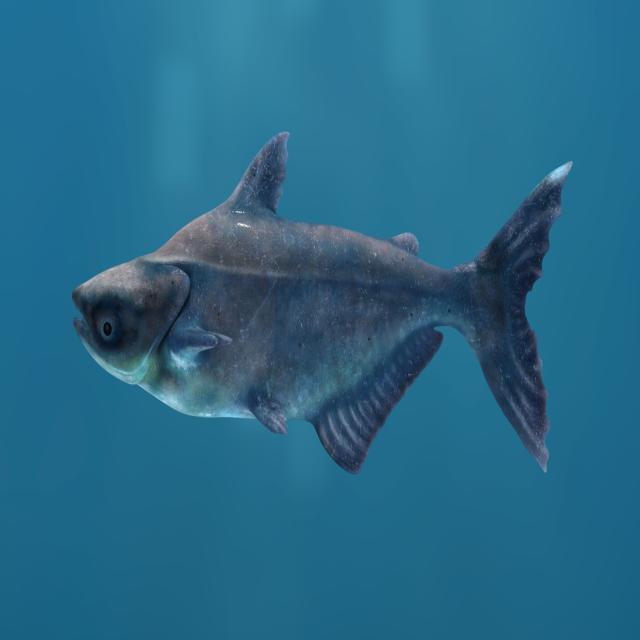Mekong_Giant_Catfish: (70, 129, 574, 477)
